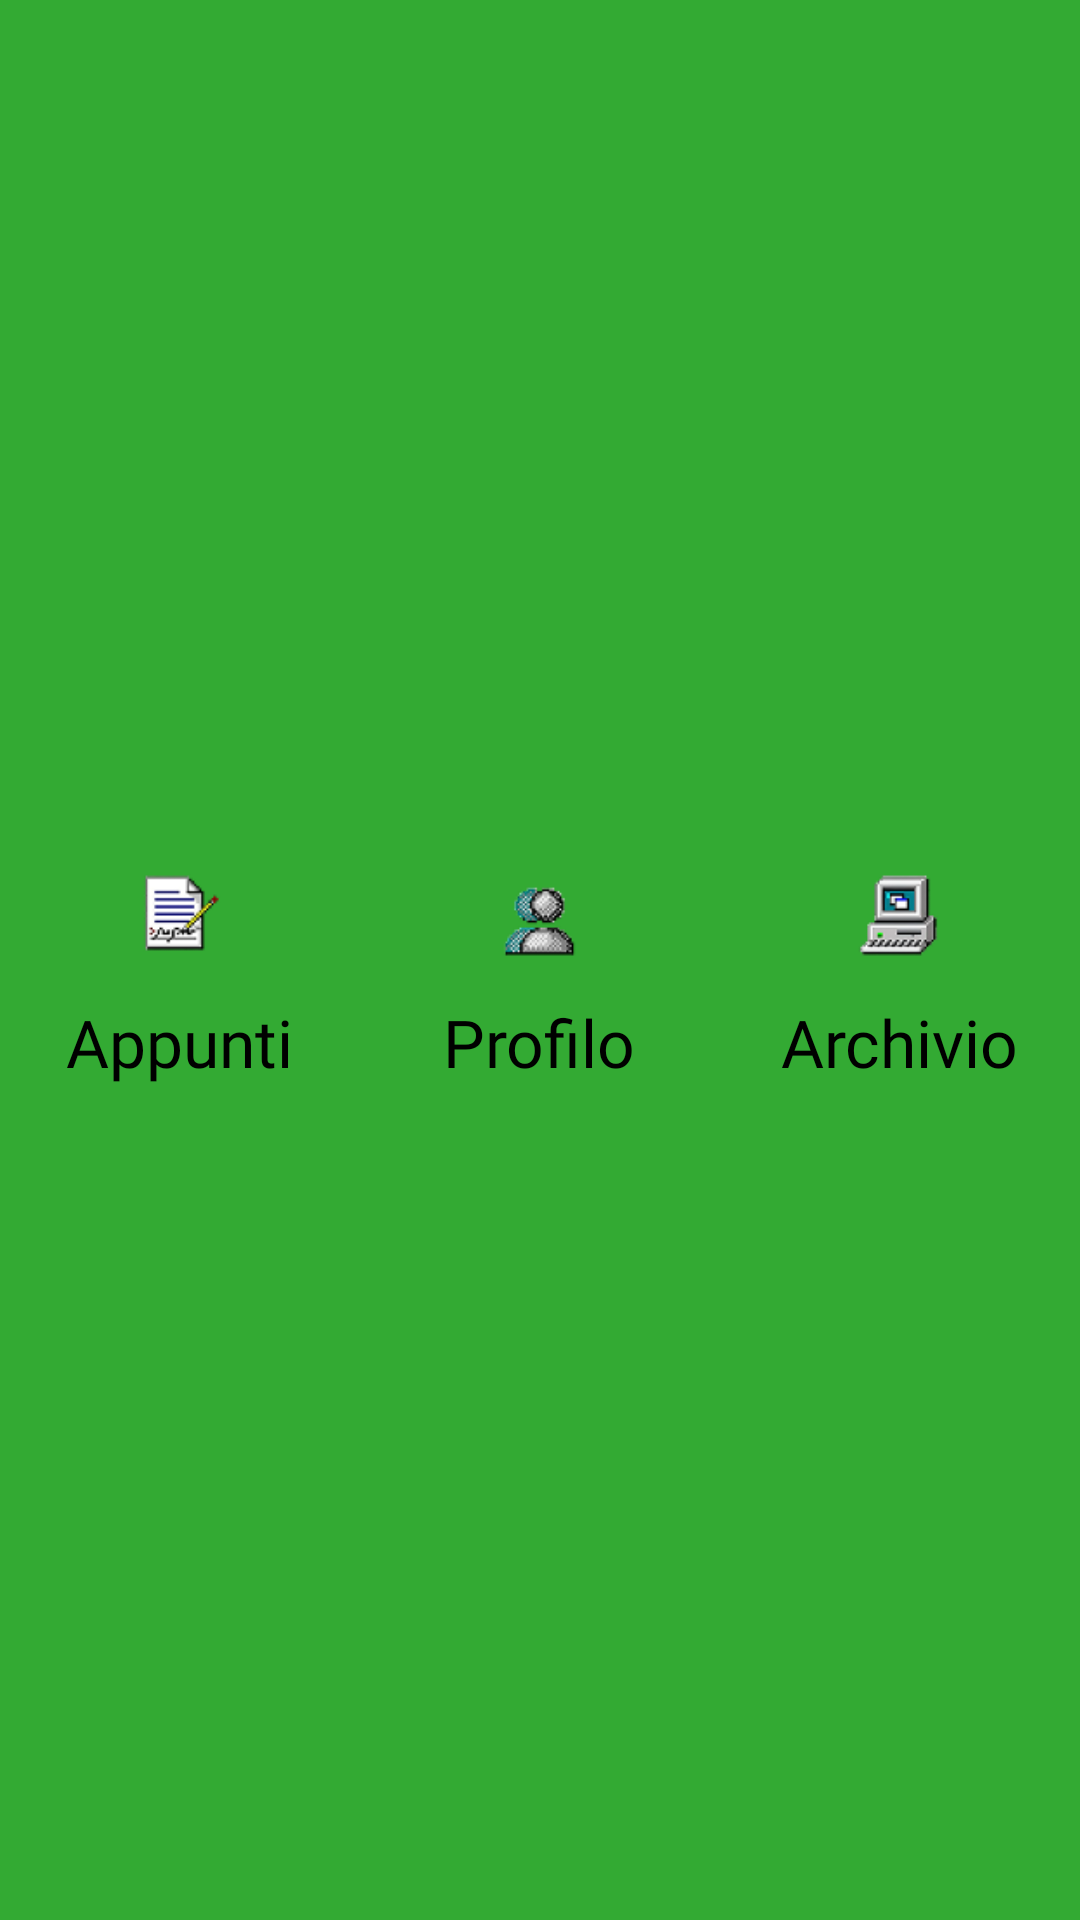

Screen size 1080px x 1920px. Icon name, then its center in pixels as (x=x, y=y):
notes: (x=182, y=913)
profile: (x=539, y=921)
